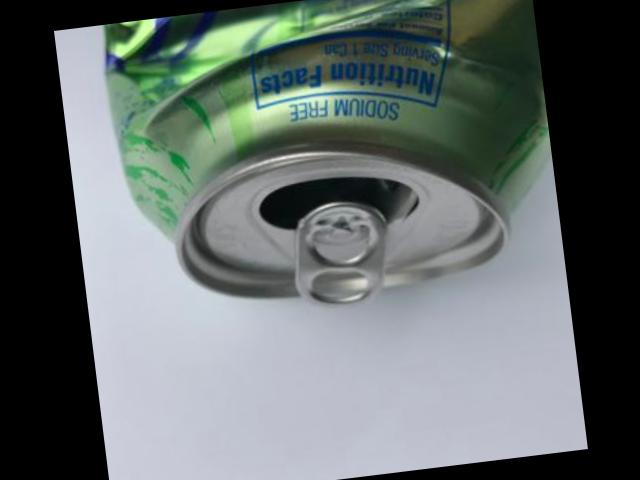metal: (100, 0, 547, 306)
